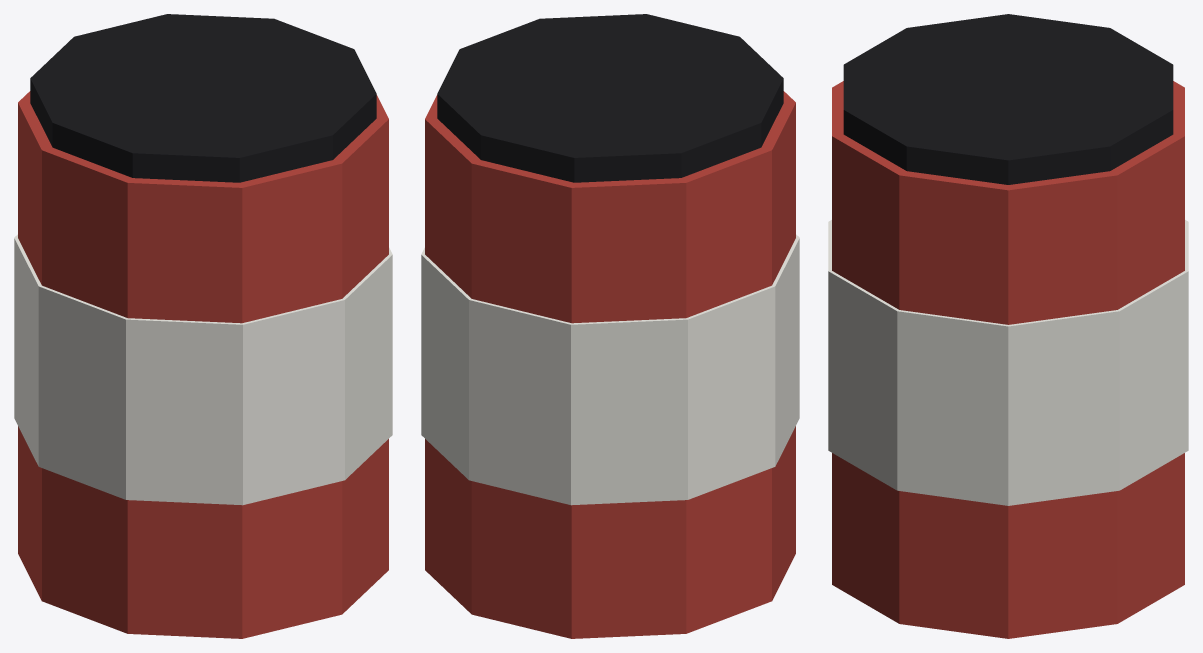
The model's file is FD_CoffeeCan_01.glb.
The picture shows the model from 3 angles, left to right: view 1: azimuth 30°, elevation 25°; view 2: azimuth 150°, elevation 25°; view 3: azimuth 270°, elevation 25°; orthographic projection.
Parts seen in each view (by area): view 1: FD_CoffeeCan_01; view 2: FD_CoffeeCan_01; view 3: FD_CoffeeCan_01.
Boxes of the visible parts, left/top/right/bottom form: FD_CoffeeCan_01: left=14, top=14, right=392, bottom=638; FD_CoffeeCan_01: left=421, top=14, right=799, bottom=638; FD_CoffeeCan_01: left=828, top=14, right=1188, bottom=638.
Bounding box in the file's own units: 0.153 × 0.211 × 0.1455.
Materials: 1 (1 with a texture image).
